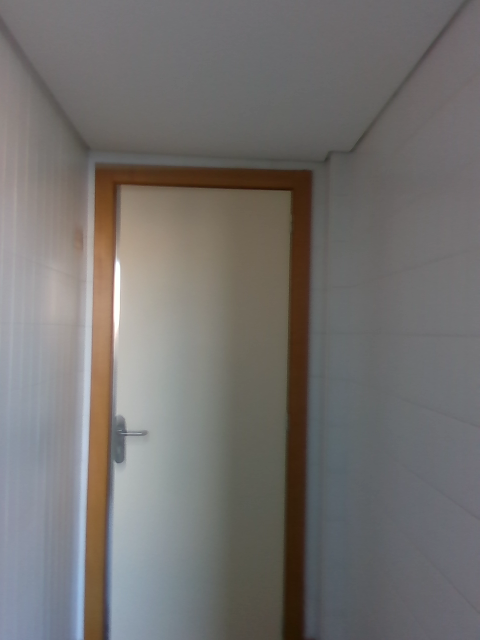closed: (81, 168, 309, 637)
